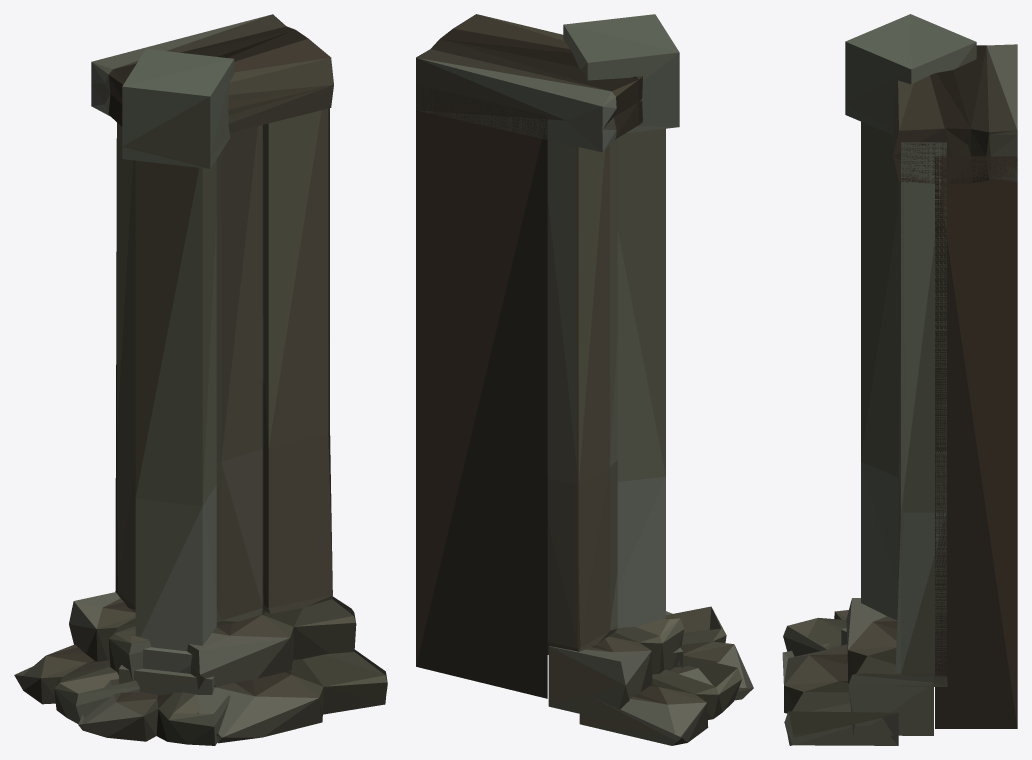
Rendered from wall_A_endcap_left.fbx.
3 views of the same model, side by side, from view 1: azimuth 30°, elevation 25°; view 2: azimuth 150°, elevation 25°; view 3: azimuth 270°, elevation 25° (orthographic). The views are drawn at different scales.
Visible parts, largest first — view 1: wall_A_endcap_left; view 2: wall_A_endcap_left; view 3: wall_A_endcap_left.
Boxes of the visible parts, x1=… form: wall_A_endcap_left: x1=14, y1=14, x2=387, y2=745; wall_A_endcap_left: x1=416, y1=14, x2=753, y2=745; wall_A_endcap_left: x1=782, y1=14, x2=1017, y2=745.
Size of the model in its own units: 2.82 by 6.43 by 2.17.
